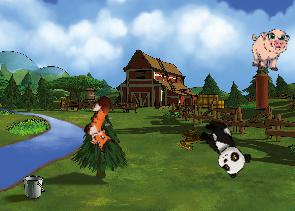fox: (76, 93, 130, 155)
panda: (192, 114, 255, 180)
pig: (247, 26, 291, 73)
